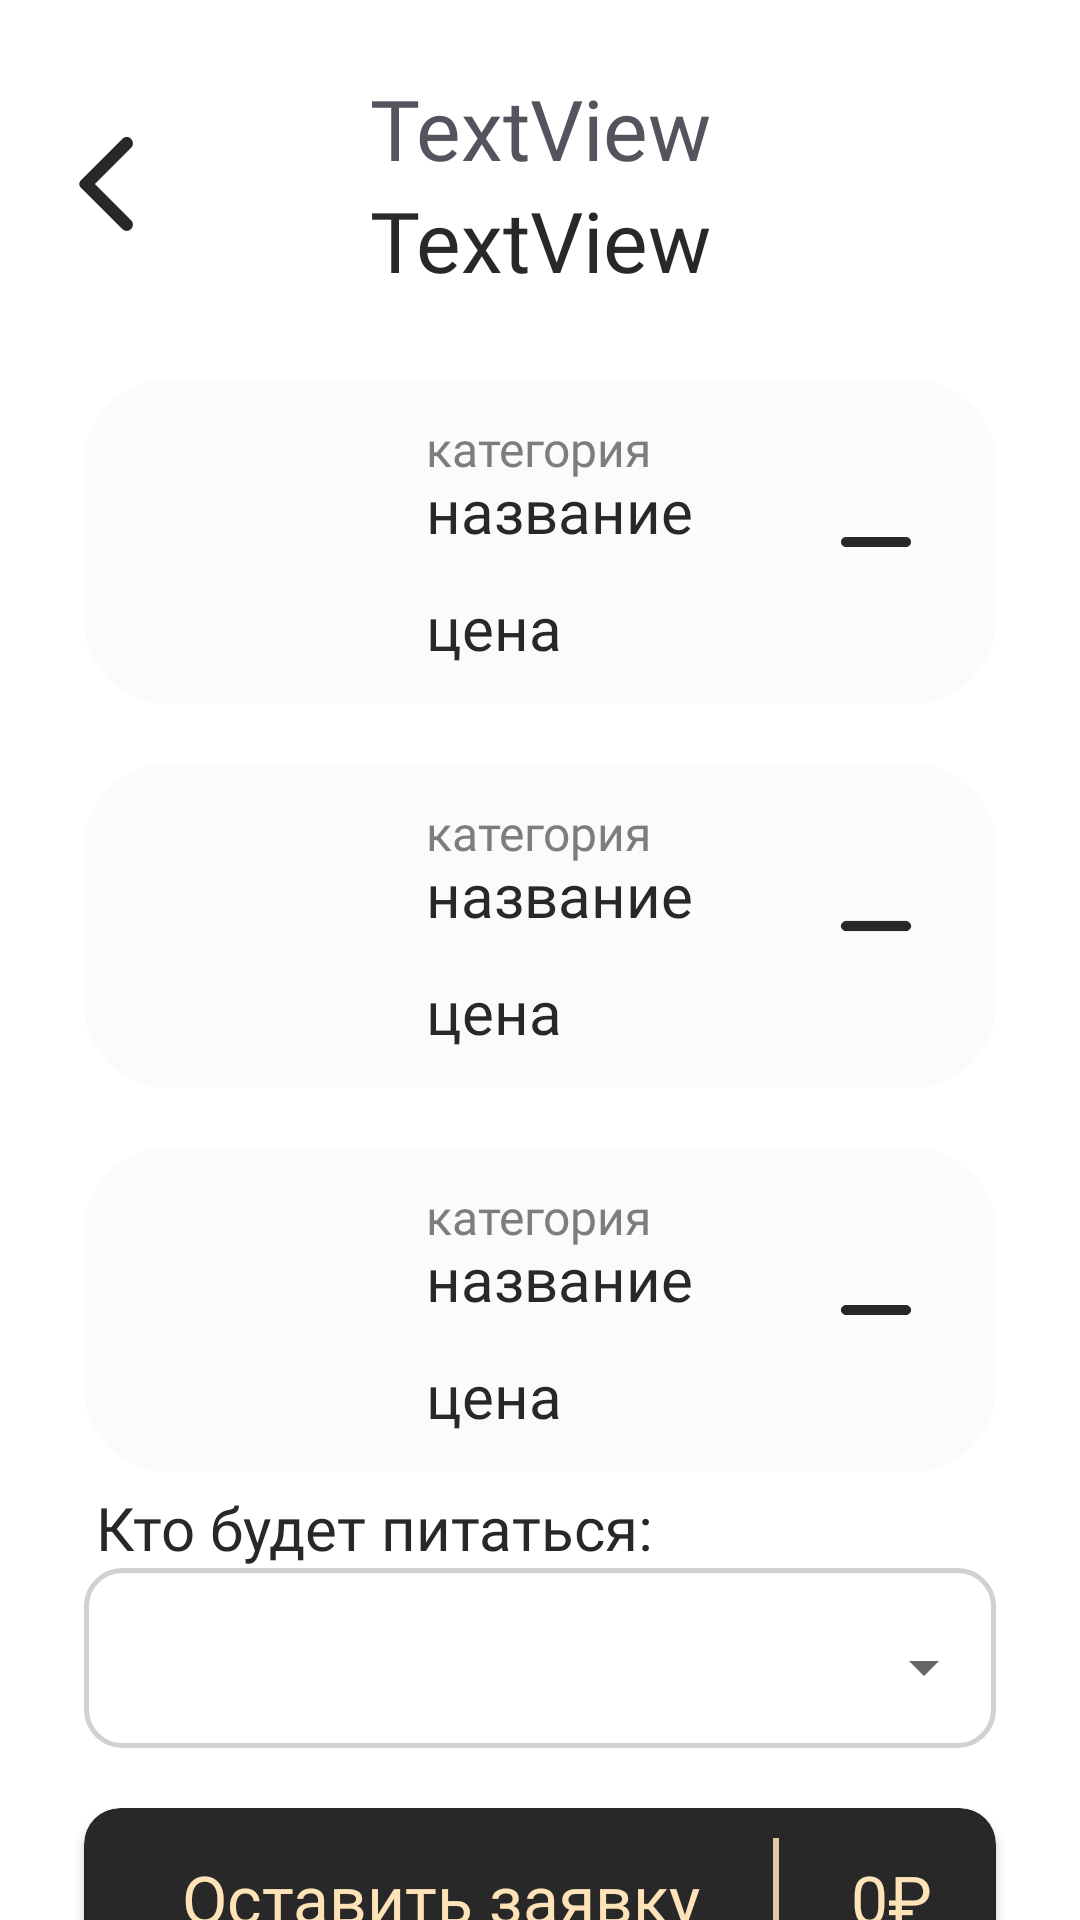

Icons on this 1080px x 1920px Android screen, each with its box as BBox(x1, y1, x2, y2):
back: BBox(79, 137, 133, 231)
